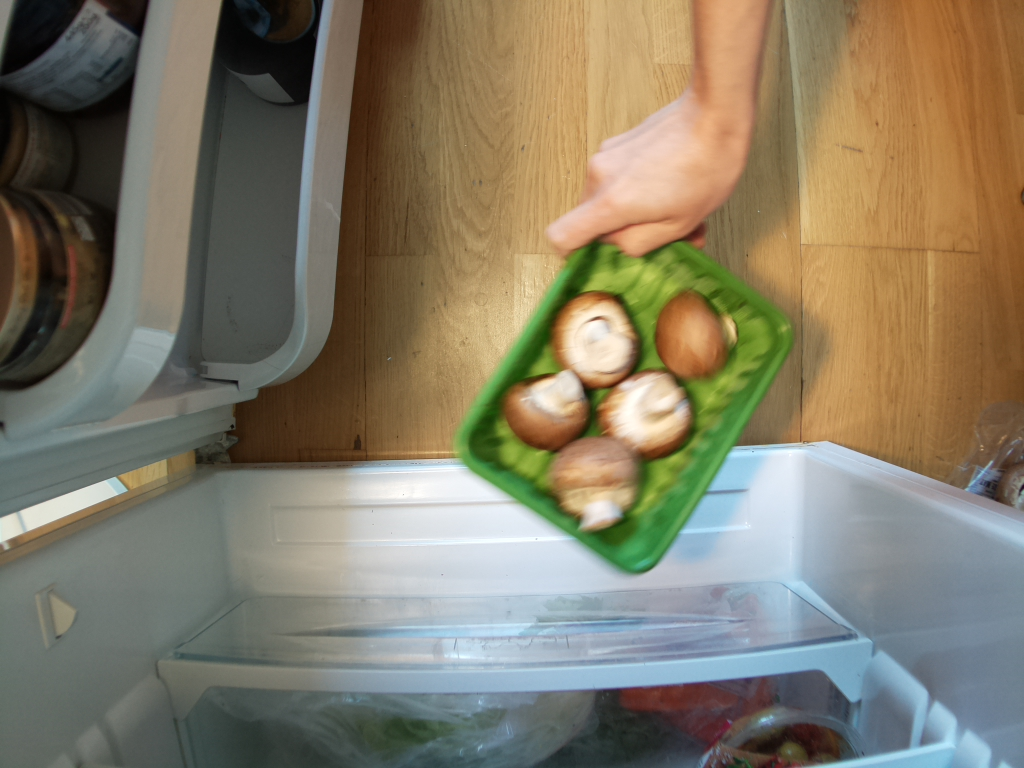mushrooms: (462, 230, 804, 570)
